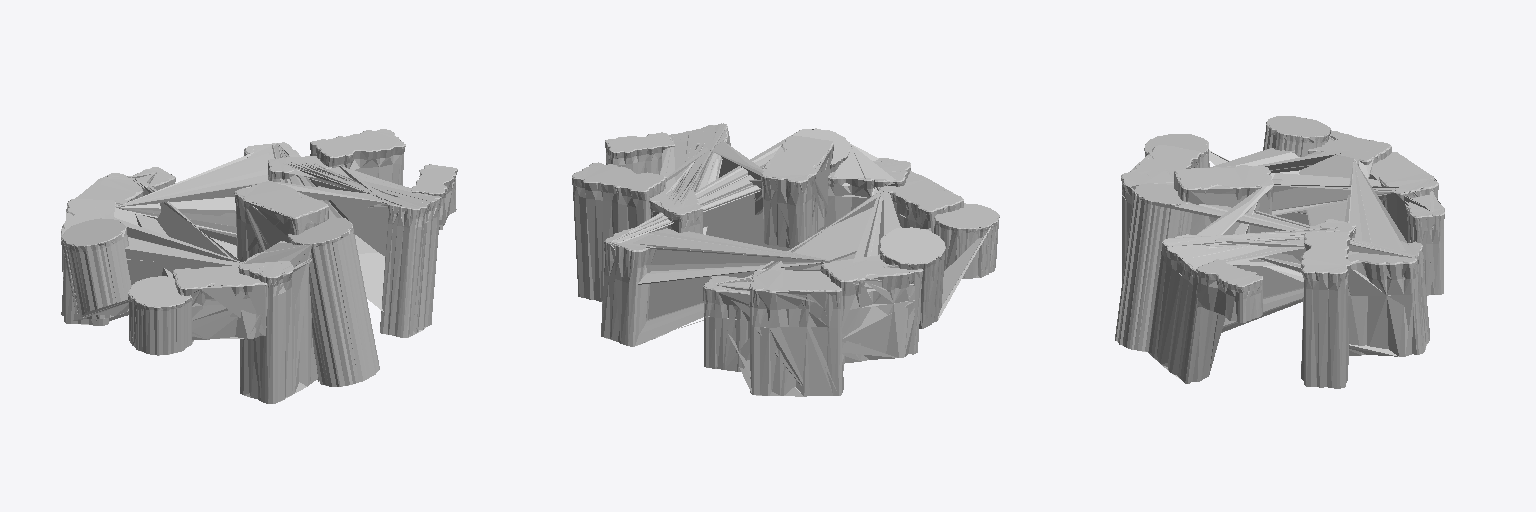
File: cellQuarry_Entrance_Proxy-sharedassets3.assets-605.obj
3 renders of one model, left to right at view 1: azimuth 30°, elevation 25°; view 2: azimuth 150°, elevation 25°; view 3: azimuth 270°, elevation 25°, orthographic.
Visible parts, largest first — view 1: cellQuarry_Entrance_Proxy_0, cellQuarry_Entrance_Proxy_3, cellQuarry_Entrance_Proxy_1; view 2: cellQuarry_Entrance_Proxy_0, cellQuarry_Entrance_Proxy_3, cellQuarry_Entrance_Proxy_1, cellQuarry_Entrance_Proxy_2; view 3: cellQuarry_Entrance_Proxy_3, cellQuarry_Entrance_Proxy_0, cellQuarry_Entrance_Proxy_1.
Boxes of the visible parts, <box> form: cellQuarry_Entrance_Proxy_0: <box>61,142,442,401</box>; cellQuarry_Entrance_Proxy_3: <box>61,129,457,403</box>; cellQuarry_Entrance_Proxy_1: <box>61,169,267,355</box>; cellQuarry_Entrance_Proxy_0: <box>602,123,998,396</box>; cellQuarry_Entrance_Proxy_3: <box>572,123,963,396</box>; cellQuarry_Entrance_Proxy_1: <box>707,178,999,385</box>; cellQuarry_Entrance_Proxy_2: <box>672,187,999,384</box>; cellQuarry_Entrance_Proxy_3: <box>1115,131,1444,388</box>; cellQuarry_Entrance_Proxy_0: <box>1117,116,1444,382</box>; cellQuarry_Entrance_Proxy_1: <box>1131,116,1443,293</box>.
Size of the model in its own units: 124 by 52.04 by 97.65.